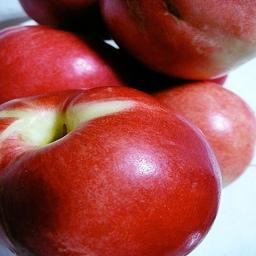apple: (1, 90, 225, 254), (103, 1, 256, 81), (152, 83, 256, 188), (1, 24, 126, 103)
